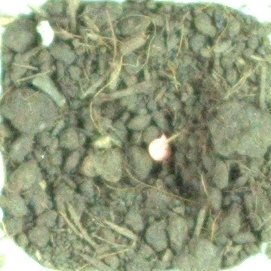chilli seed: (145, 131, 178, 162)
